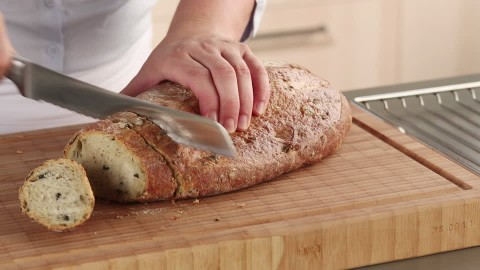slice of bread: (55, 117, 176, 207), (15, 159, 96, 229)
